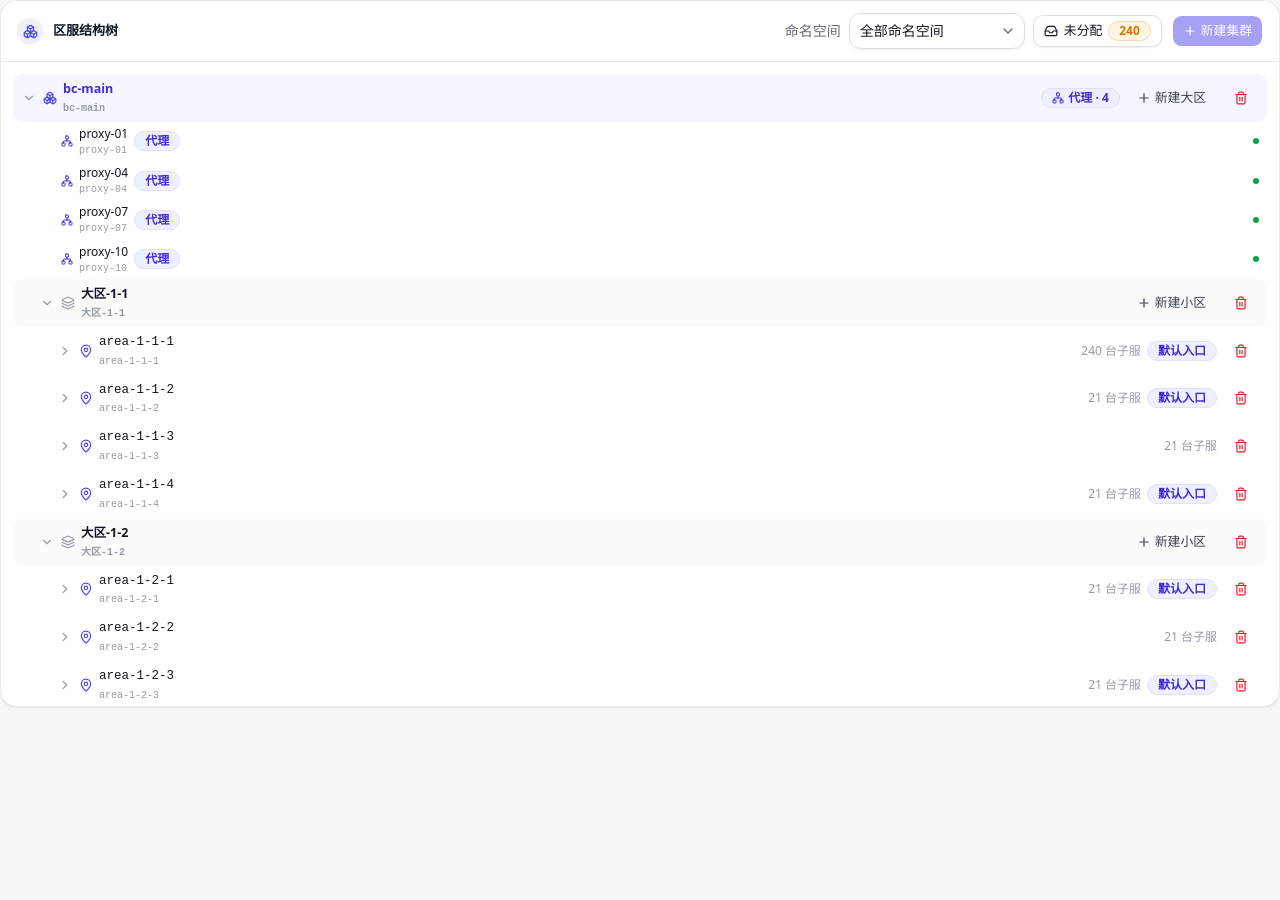
Test: /zones 区服分配页 › huge 场景按展开小区分页加载，单区每页最多渲染 40 条且可继续到第 41 台
The image size is (1280, 900).
Step 1. Click the button "area-1-1-1 area-1-1-1 240 台子服 默认入口" → {"x": 137, "y": 342}, box [13, 327, 1267, 375]
(page scrolled)
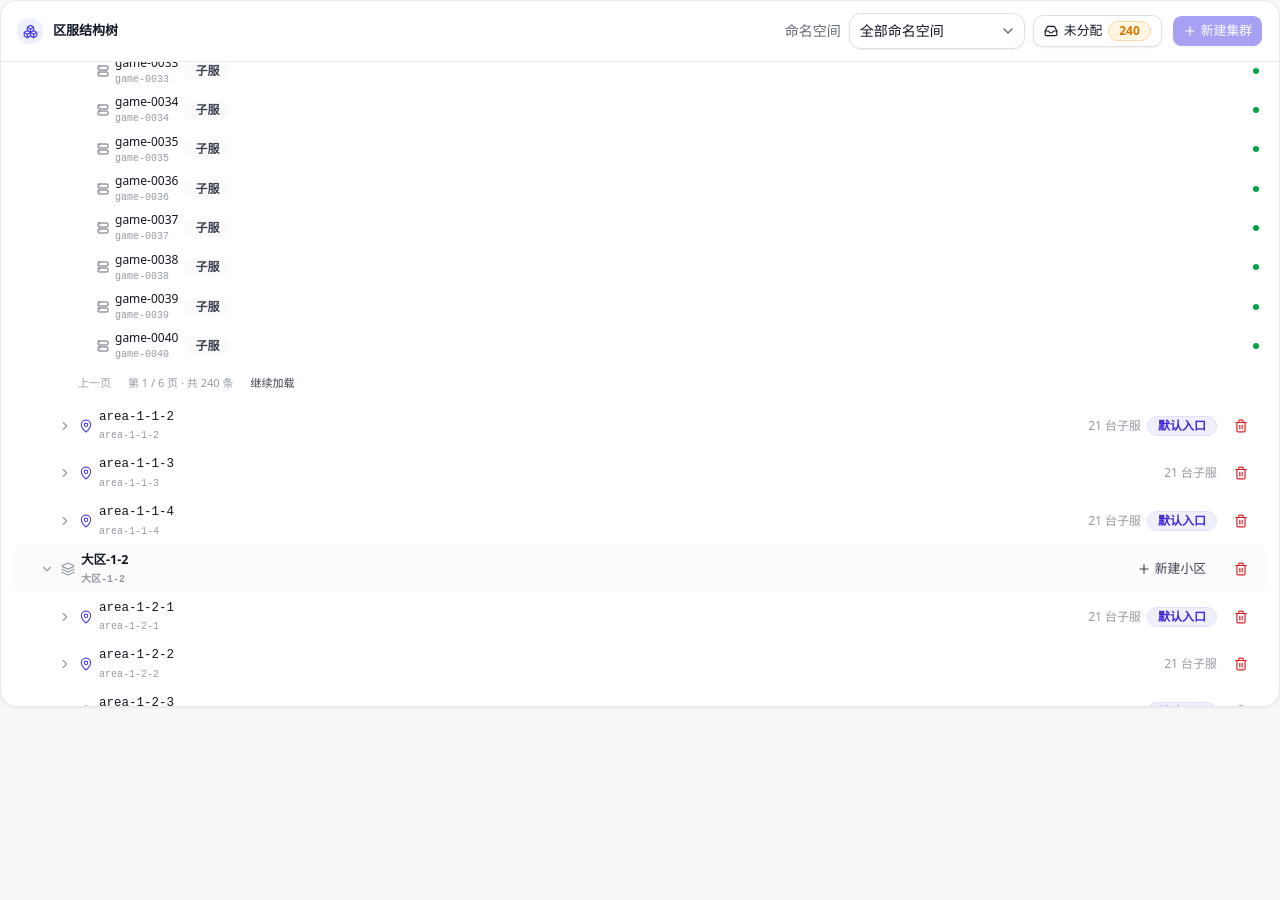
Expected: the text "game-0041" is not shown
Step 2. Click the button "继续加载" → {"x": 272, "y": 384}, box [241, 370, 303, 398]
(page scrolled)
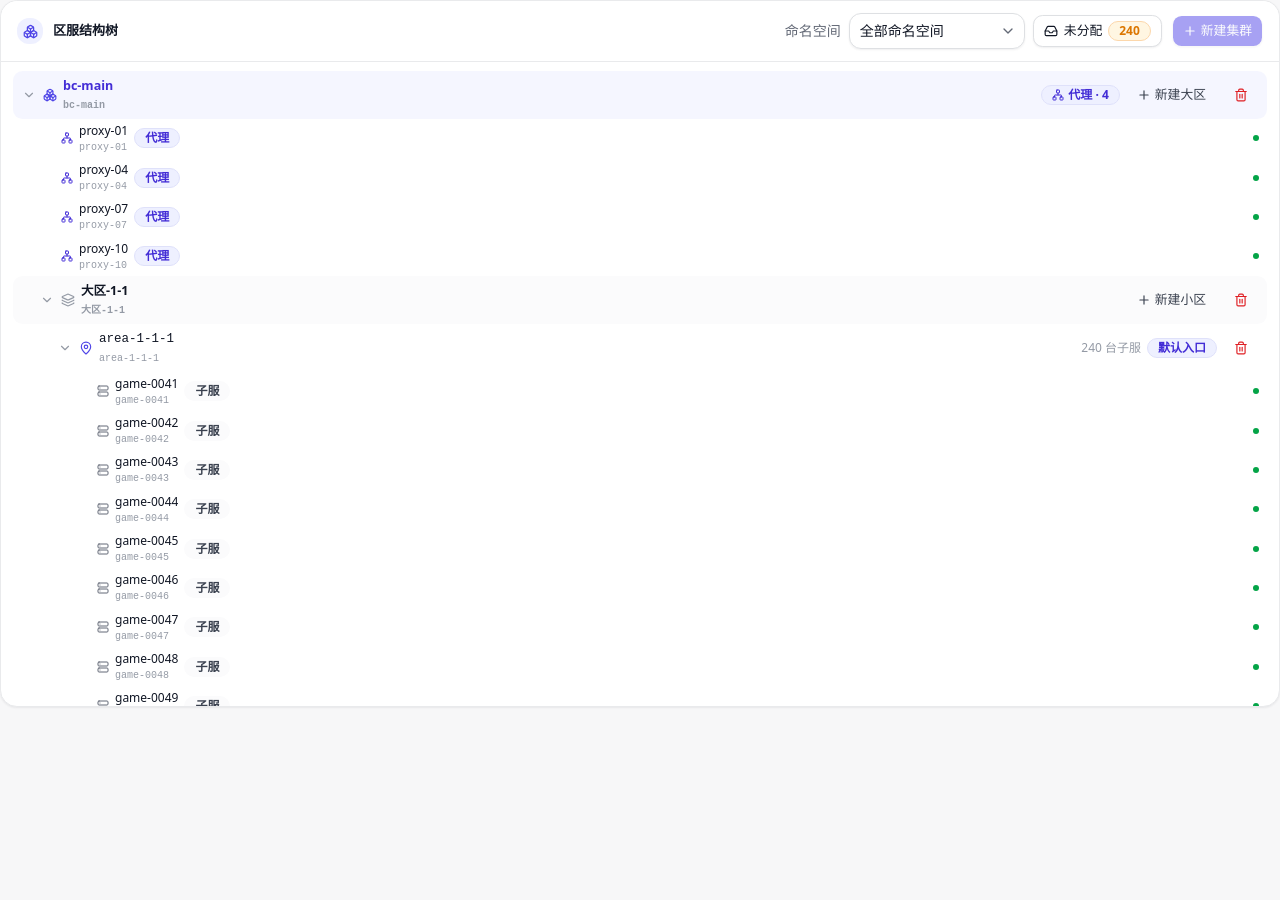
Now the 1st text "game-0041" is shown, box [115, 376, 178, 392]
